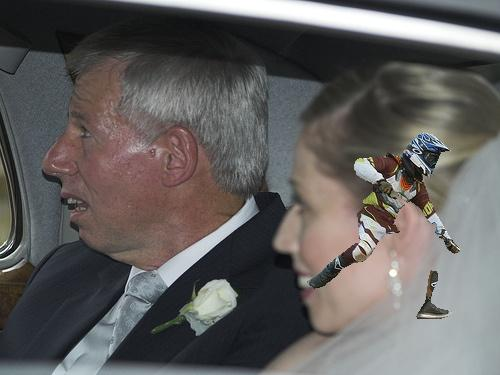tampered: (308, 133, 460, 319)
